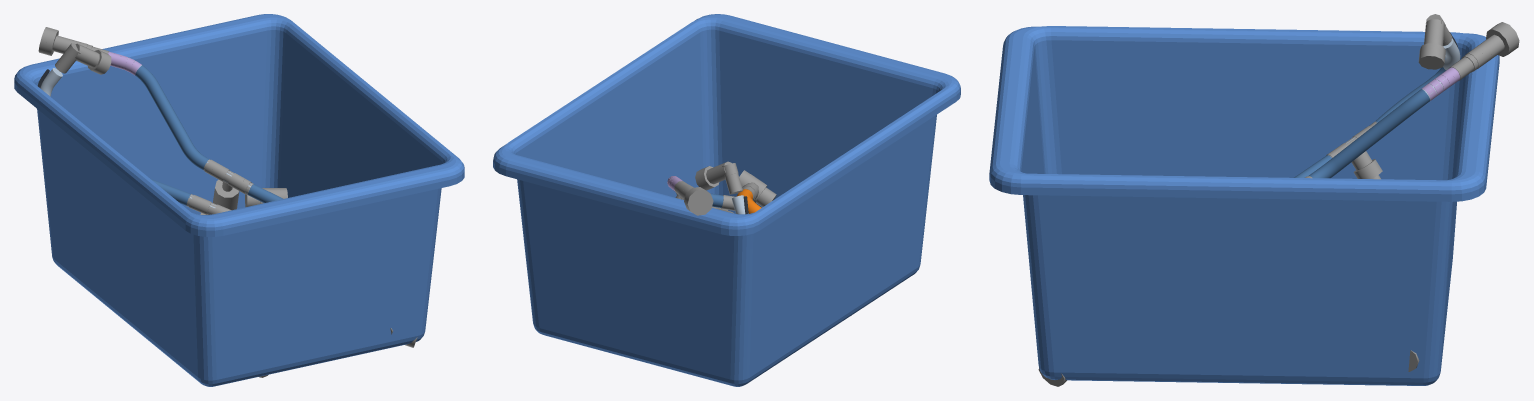
3 views of the same model, side by side, from view 1: azimuth 30°, elevation 25°; view 2: azimuth 150°, elevation 25°; view 3: azimuth 270°, elevation 25° (orthographic). The views are drawn at different scales.
Parts seen in each view (by area): view 1: bin, tube_0_AB, tube_2_AB; view 2: bin, tube_0_AB, tube_2_AB, tube_1_X; view 3: bin, tube_0_AB, tube_2_AB.
Boxes of the visible parts, x1,y1,x2,y2 form: bin: (14,14,464,386); tube_0_AB: (38,27,392,334); tube_2_AB: (40,43,417,347); bin: (493,14,960,386); tube_0_AB: (667,176,735,215); tube_2_AB: (695,161,748,214); tube_1_X: (736,170,851,315); bin: (989,26,1499,385); tube_0_AB: (1305,22,1519,178); tube_2_AB: (1038,14,1460,386).
Size of the model in its own units: 0.3076 by 0.2354 by 0.4225.
